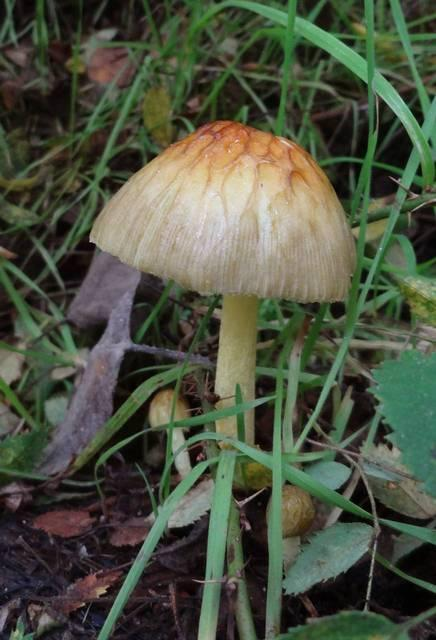Edible Mushroom: (87, 118, 357, 475)
